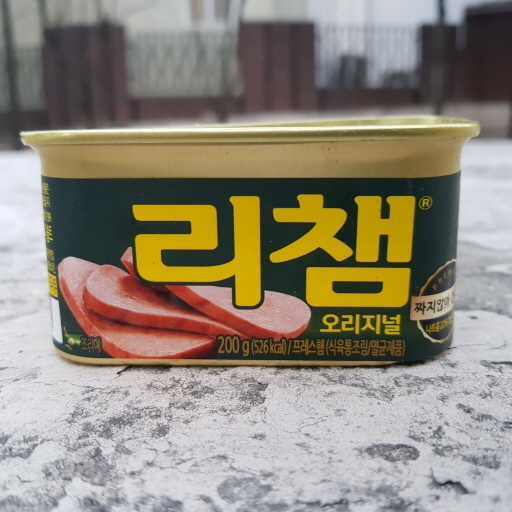Metal_2: (17, 117, 488, 367)
